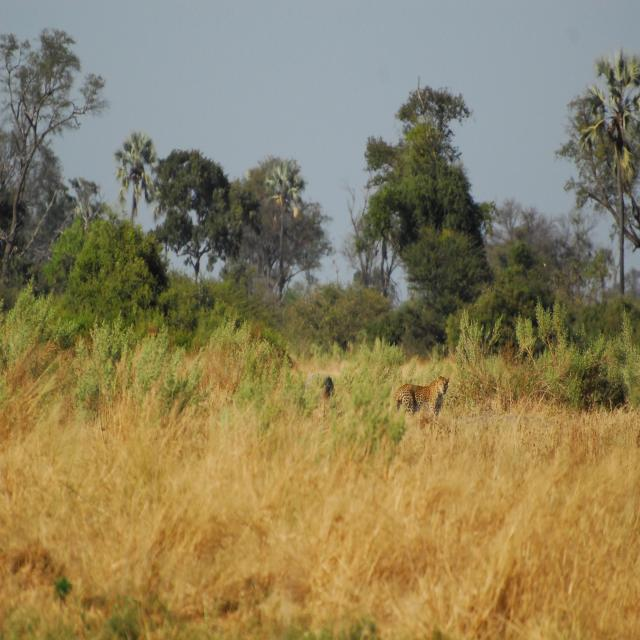Leopard: (383, 371, 458, 423)
